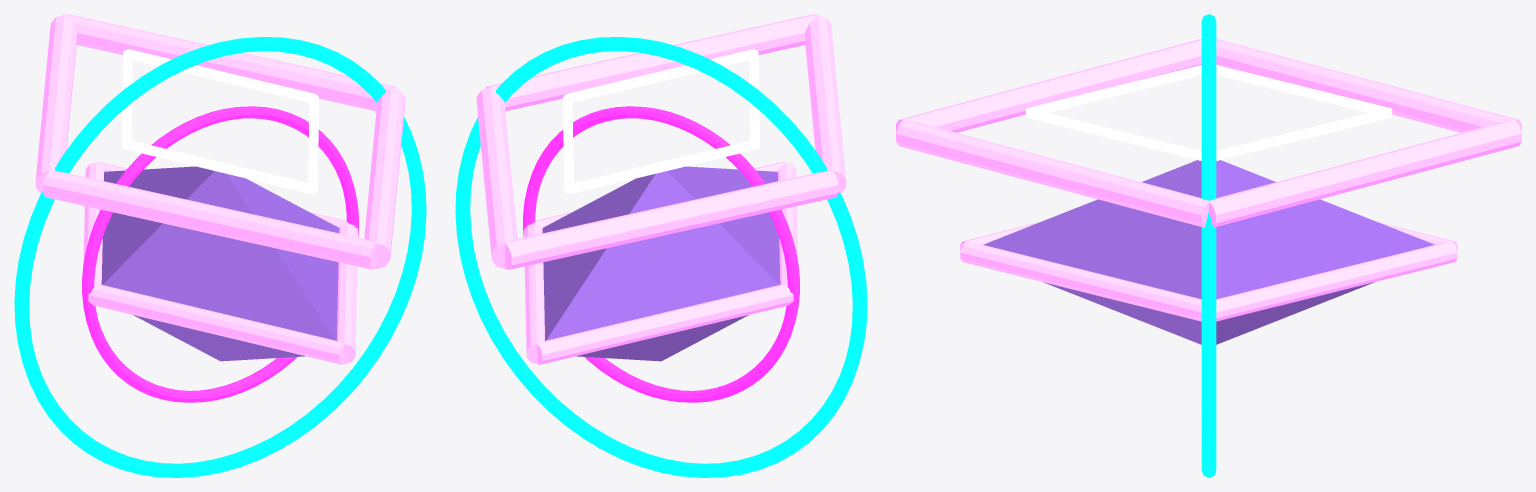
Rendered from prism_leech.glb.
3 renders of one model, left to right at view 1: azimuth 30°, elevation 25°; view 2: azimuth 150°, elevation 25°; view 3: azimuth 270°, elevation 25°, orthographic. The views are drawn at different scales.
Parts seen in each view (by area): view 1: PrismLeechDarkDiamond, PrismLeechCyanTetherRing, PrismLeechReadabilityDiamondRoute2, PrismLeechMagentaPressureRing, PrismLeechReadabilityDiamondRoute0, PrismLeechEdge2, PrismLeechReadabilityDiamondRoute1, PrismLeechReadabilityDiamondRoute3, PrismLeechReadabilityWhiteRoute2, PrismLeechEdge1, PrismLeechReadabilityWhiteRoute0, PrismLeechEdge3 (+2 smaller); view 2: PrismLeechDarkDiamond, PrismLeechCyanTetherRing, PrismLeechReadabilityDiamondRoute3, PrismLeechMagentaPressureRing, PrismLeechReadabilityDiamondRoute1, PrismLeechEdge3, PrismLeechReadabilityDiamondRoute0, PrismLeechReadabilityDiamondRoute2, PrismLeechReadabilityWhiteRoute3, PrismLeechEdge0, PrismLeechReadabilityWhiteRoute1, PrismLeechEdge2 (+2 smaller); view 3: PrismLeechDarkDiamond, PrismLeechReadabilityDiamondRoute0, PrismLeechReadabilityDiamondRoute1, PrismLeechReadabilityDiamondRoute2, PrismLeechReadabilityDiamondRoute3, PrismLeechCyanTetherRing, PrismLeechEdge0, PrismLeechEdge1, PrismLeechReadabilityWhiteRoute0, PrismLeechReadabilityWhiteRoute1, PrismLeechReadabilityWhiteRoute2, PrismLeechReadabilityWhiteRoute3.
Boxes of the visible parts, box(x1,y1,x2,y2) form: PrismLeechDarkDiamond: box(101, 166, 339, 361); PrismLeechCyanTetherRing: box(14, 37, 426, 477); PrismLeechReadabilityDiamondRoute2: box(43, 170, 376, 269); PrismLeechMagentaPressureRing: box(82, 106, 358, 402); PrismLeechReadabilityDiamondRoute0: box(65, 14, 396, 111); PrismLeechEdge2: box(88, 284, 344, 364); PrismLeechReadabilityDiamondRoute1: box(364, 87, 405, 268); PrismLeechReadabilityDiamondRoute3: box(35, 14, 76, 193); PrismLeechReadabilityWhiteRoute2: box(124, 140, 312, 193); PrismLeechEdge1: box(337, 222, 357, 363); PrismLeechReadabilityWhiteRoute0: box(128, 49, 315, 102); PrismLeechEdge3: box(83, 162, 104, 284); PrismLeechDarkDiamond: box(542, 166, 780, 361); PrismLeechCyanTetherRing: box(455, 37, 867, 477); PrismLeechReadabilityDiamondRoute3: box(505, 170, 838, 269); PrismLeechMagentaPressureRing: box(523, 106, 799, 402); PrismLeechReadabilityDiamondRoute1: box(485, 14, 816, 111); PrismLeechEdge3: box(537, 284, 793, 364); PrismLeechReadabilityDiamondRoute0: box(476, 87, 517, 268); PrismLeechReadabilityDiamondRoute2: box(805, 14, 846, 193); PrismLeechReadabilityWhiteRoute3: box(569, 140, 757, 193); PrismLeechEdge0: box(524, 222, 544, 363); PrismLeechReadabilityWhiteRoute1: box(566, 49, 753, 102); PrismLeechEdge2: box(777, 162, 798, 284); PrismLeechDarkDiamond: box(983, 160, 1434, 344); PrismLeechReadabilityDiamondRoute0: box(1209, 120, 1521, 227); PrismLeechReadabilityDiamondRoute1: box(896, 120, 1208, 227); PrismLeechReadabilityDiamondRoute2: box(896, 38, 1201, 132); PrismLeechReadabilityDiamondRoute3: box(1216, 38, 1521, 132); PrismLeechCyanTetherRing: box(1201, 14, 1216, 477); PrismLeechEdge0: box(1216, 242, 1457, 321); PrismLeechEdge1: box(960, 242, 1201, 321); PrismLeechReadabilityWhiteRoute0: box(1216, 108, 1392, 160); PrismLeechReadabilityWhiteRoute1: box(1025, 108, 1201, 160); PrismLeechReadabilityWhiteRoute2: box(1025, 65, 1201, 112); PrismLeechReadabilityWhiteRoute3: box(1216, 65, 1392, 112).
Bounding box in the file's own units: 1.67 × 1.67 × 2.25.
